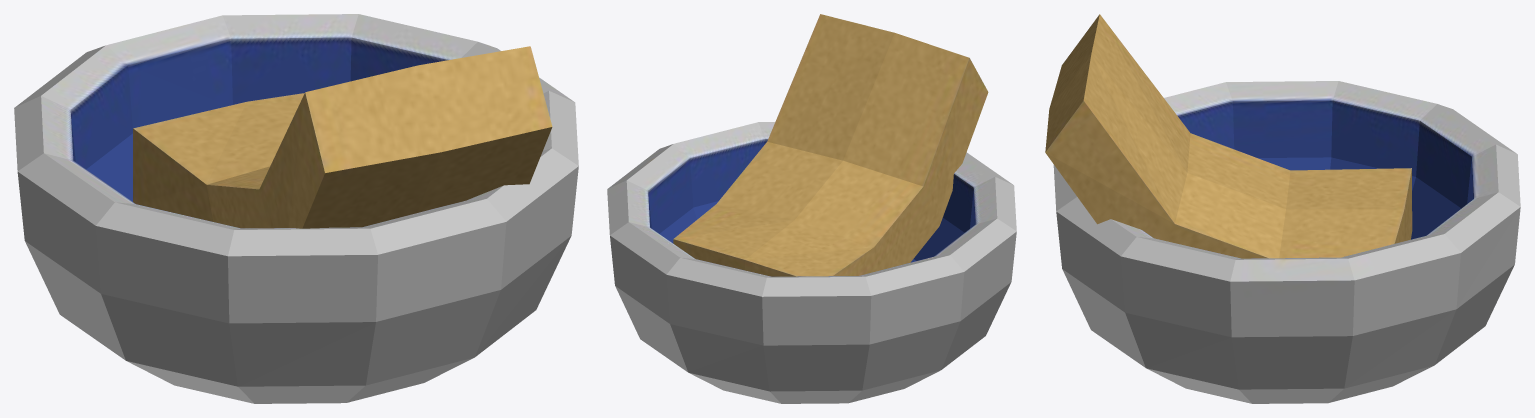
Rendered from frl_apartment_sponge_dish.glb.
3 renders of one model, left to right at view 1: azimuth 30°, elevation 25°; view 2: azimuth 150°, elevation 25°; view 3: azimuth 270°, elevation 25°, orthographic. The views are drawn at different scales.
Parts seen in each view (by area): view 1: frl_apartment_sponge_dish; view 2: frl_apartment_sponge_dish; view 3: frl_apartment_sponge_dish.
Part boxes in pixels (box(x1,y1,x2,y2)): frl_apartment_sponge_dish: box(14, 14, 578, 403); frl_apartment_sponge_dish: box(607, 14, 1016, 403); frl_apartment_sponge_dish: box(1045, 14, 1520, 403).
Size of the model in its own units: 0.1653 by 0.1136 by 0.168.
Materials: 1 (1 with a texture image).
